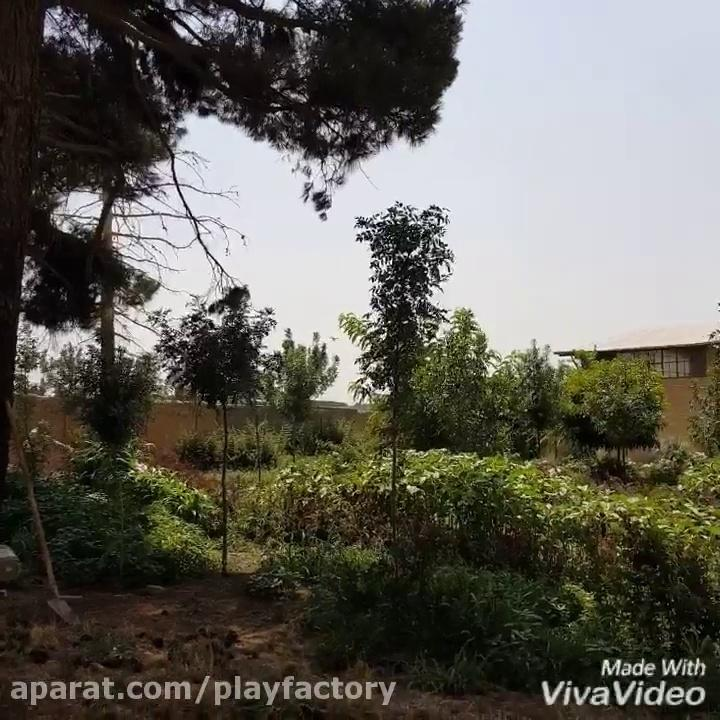drone: (325, 329, 342, 343)
